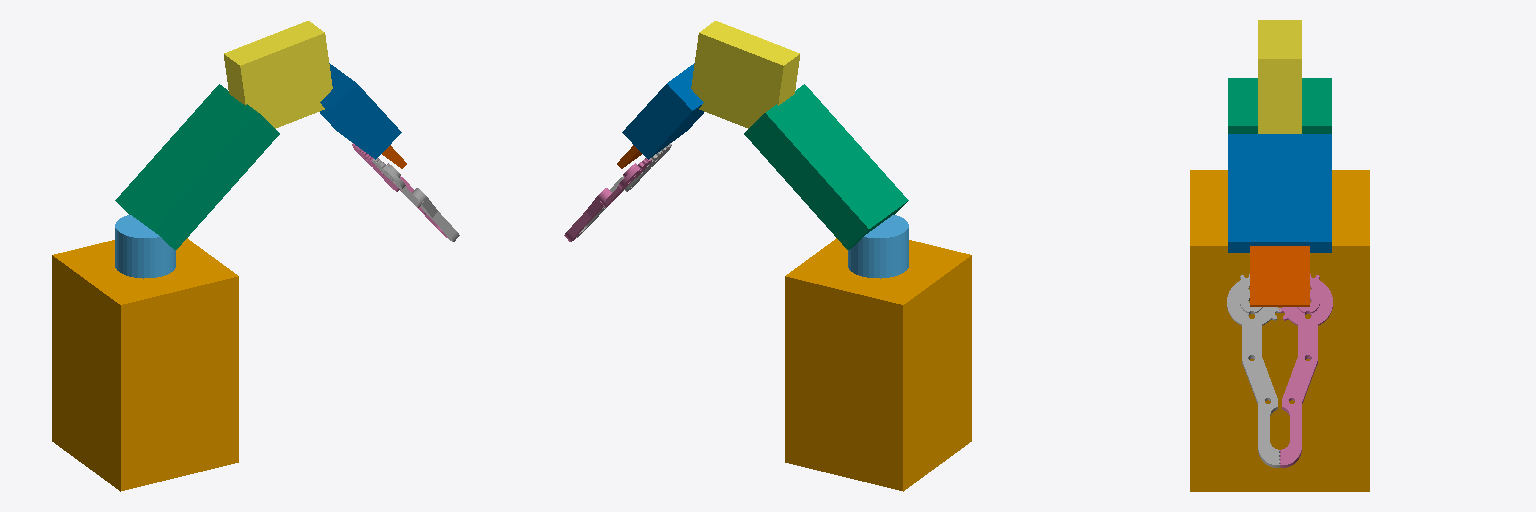
The robot description file, URDF, robot "mrm":
<?xml version="1.0" ?>
<!-- =================================================================================== -->
<!-- |    This document was autogenerated by xacro from arm.xacro                      | -->
<!-- |    EDITING THIS FILE BY HAND IS NOT RECOMMENDED                                 | -->
<!-- =================================================================================== -->
<robot name="mrm" xmlns:xacro="http://www.ros.org/wiki/xacro">
  <!-- END - Include -->
  <link name="base_link">
    <inertial>
      <mass value="1024"/>
      <origin rpy="0 0 0" xyz="0 0 0.0675"/>
      <inertia ixx="170.667" ixy="0" ixz="0" iyy="170.667" iyz="0" izz="170.667"/>
    </inertial>
    <collision>
      <origin rpy="0 0 0" xyz="0 0 0.0675"/>
      <geometry>
        <box size="0.09 0.09 0.135"/>
      </geometry>
    </collision>
    <visual>
      <origin rpy="0 0 0" xyz="0 0 0.0675"/>
      <geometry>
        <box size="0.09 0.09 0.135"/>
      </geometry>
    </visual>
  </link>
  <link name="link_01">
    <inertial>
      <mass value="0.01"/>
      <origin rpy="0 0 0" xyz="0 0 0.0145"/>
      <inertia ixx="1.0" ixy="0" ixz="0" iyy="1.0" iyz="0" izz="1.0"/>
    </inertial>
    <collision>
      <origin rpy="0 0 0" xyz="0 0 0.0145"/>
      <geometry>
        <cylinder length="0.029" radius="0.02"/>
      </geometry>
    </collision>
    <visual>
      <origin rpy="0 0 0" xyz="0 0 0.0145"/>
      <geometry>
        <cylinder length="0.029" radius="0.02"/>
      </geometry>
    </visual>
  </link>
  <link name="link_02">
    <inertial>
      <mass value="0.1"/>
      <origin rpy="0 0 0" xyz="0.0515 0 0"/>
      <inertia ixx="0.1" ixy="0" ixz="0" iyy="0.1" iyz="0" izz="0.1"/>
    </inertial>
    <collision>
      <origin rpy="0 0 0" xyz="0.0515 0 0"/>
      <geometry>
        <box size="0.103 0.052 0.025"/>
      </geometry>
    </collision>
    <visual>
      <origin rpy="0 0 0" xyz="0.0515 0 0"/>
      <geometry>
        <box size="0.103 0.052 0.025"/>
      </geometry>
    </visual>
  </link>
  <link name="link_03">
    <inertial>
      <mass value="0.1"/>
      <origin rpy="0 0 0" xyz="0.0325 0 0"/>
      <inertia ixx="0.1" ixy="0" ixz="0" iyy="0.1" iyz="0" izz="0.1"/>
    </inertial>
    <collision>
      <origin rpy="0 0 0" xyz="0.0325 0 0"/>
      <geometry>
        <box size="0.065 0.022 0.055"/>
      </geometry>
    </collision>
    <visual>
      <origin rpy="0 0 0" xyz="0.0325 0 0"/>
      <geometry>
        <box size="0.065 0.022 0.055"/>
      </geometry>
    </visual>
  </link>
  <link name="link_04">
    <inertial>
      <mass value="0.1"/>
      <origin rpy="0 0 0" xyz="0.0275 0 0"/>
      <inertia ixx="0.1" ixy="0" ixz="0" iyy="0.1" iyz="0" izz="0.1"/>
    </inertial>
    <collision>
      <origin rpy="0 0 0" xyz="0.0275 0 0"/>
      <geometry>
        <box size="0.055 0.052 0.025"/>
      </geometry>
    </collision>
    <visual>
      <origin rpy="0 0 0" xyz="0.0275 0 0"/>
      <geometry>
        <box size="0.055 0.052 0.025"/>
      </geometry>
    </visual>
  </link>
  <link name="ir_ranger">
    <inertial>
      <mass value="0.1"/>
      <origin rpy="0 0 0" xyz="0.015 0 0"/>
      <inertia ixx="0.1" ixy="0" ixz="0" iyy="0.1" iyz="0" izz="0.1"/>
    </inertial>
    <collision>
      <origin rpy="0 0 0" xyz="0.015 0 0"/>
      <geometry>
        <box size="0.03 0.03 0.005"/>
      </geometry>
    </collision>
    <visual>
      <origin rpy="0 0 0" xyz="0.015 0 0"/>
      <geometry>
        <box size="0.03 0.03 0.005"/>
      </geometry>
    </visual>
  </link>
  <link name="link_clawR">
    <inertial>
      <mass value="0.1"/>
      <origin rpy="0 0 0" xyz="-0.03 -0.014 -0.005"/>
      <inertia ixx="0.1" ixy="0" ixz="0" iyy="0.1" iyz="0" izz="0.1"/>
    </inertial>
    <collision>
      <origin rpy="0 0 0" xyz="-0.03 -0.014 -0.005"/>
      <geometry>
        <mesh filename="package://arm-model/meshes/gripperRight.stl" scale="0.001 0.001 0.001"/>
      </geometry>
    </collision>
    <visual>
      <origin rpy="0 0 0" xyz="-0.03 -0.014 -0.005"/>
      <geometry>
        <mesh filename="package://arm-model/meshes/gripperRight.stl" scale="0.001 0.001 0.001"/>
      </geometry>
      <!-- <material name="light_black"/> -->
    </visual>
  </link>
  <link name="link_clawL">
    <inertial>
      <mass value="0.1"/>
      <origin rpy="0 0 0" xyz="-0.03 0.014 -0.005"/>
      <inertia ixx="0.1" ixy="0" ixz="0" iyy="0.1" iyz="0" izz="0.1"/>
    </inertial>
    <collision>
      <origin rpy="0 0 0" xyz="-0.03 0.014 -0.005"/>
      <geometry>
        <mesh filename="package://arm-model/meshes/gripperLeft.stl" scale="0.001 0.001 0.001"/>
      </geometry>
    </collision>
    <visual>
      <origin rpy="0 0 0" xyz="-0.03 0.014 -0.005"/>
      <geometry>
        <mesh filename="package://arm-model/meshes/gripperLeft.stl" scale="0.001 0.001 0.001"/>
      </geometry>
      <!-- <material name="light_black"/> -->
    </visual>
  </link>
  <joint name="base_link__link_01" type="revolute">
    <axis xyz="0 0 -1"/>
    <limit effort="1000" lower="-1.5708" upper="1.5708" velocity="0.5"/>
    <origin rpy="0 0 0" xyz="0 0 0.135"/>
    <parent link="base_link"/>
    <child link="link_01"/>
    <dynamics damping="10.0" friction="10.0"/>
  </joint>
  <joint name="link_01__link_02" type="revolute">
    <axis xyz="0 -1 0"/>
    <limit effort="1000" lower="-0.7854" upper="0.7854" velocity="0.5"/>
    <origin rpy="0 -0.698 0" xyz="0 0 0.029"/>
    <parent link="link_01"/>
    <child link="link_02"/>
    <dynamics damping="10.0" friction="10.0"/>
  </joint>
  <joint name="link_02__link_03" type="revolute">
    <axis xyz="0 -1 0"/>
    <limit effort="1000" lower="-1.5708" upper="1.5708" velocity="0.5"/>
    <origin rpy="0 0.5584 0" xyz="0.103 0 0.015"/>
    <parent link="link_02"/>
    <child link="link_03"/>
    <dynamics damping="10.0" friction="10.0"/>
  </joint>
  <joint name="link_03__link_04" type="revolute">
    <axis xyz="0 -1 0"/>
    <limit effort="1000" lower="-1.5708" upper="1.5708" velocity="0.5"/>
    <origin rpy="0 1.047 0" xyz="0.065 0 -0.015"/>
    <parent link="link_03"/>
    <child link="link_04"/>
    <dynamics damping="10.0" friction="10.0"/>
  </joint>
  <joint name="link_04__ir_ranger" type="fixed">
    <origin rpy="0 0 0" xyz="0.055 0 0"/>
    <parent link="link_04"/>
    <child link="ir_ranger"/>
  </joint>
  <joint name="ir_ranger__link_clawL" type="revolute">
    <axis xyz="0 0 -1"/>
    <limit effort="1000" lower="-0.6" upper="0.9" velocity="0.5"/>
    <origin rpy="0 0 0" xyz="0.03 -0.014  -0.00"/>
    <parent link="ir_ranger"/>
    <child link="link_clawL"/>
    <dynamics damping="10.0" friction="10.0"/>
  </joint>
  <joint name="ir_ranger__link_clawR" type="revolute">
    <axis xyz="0 0 1"/>
    <limit effort="1000" lower="-0.6" upper="0.9" velocity="0.5"/>
    <origin rpy="0 0 0" xyz="0.03 +0.014  -0.00"/>
    <parent link="ir_ranger"/>
    <child link="link_clawR"/>
    <dynamics damping="10.0" friction="10.0"/>
  </joint>
  <!-- END - Robot description Total weight = 1373.401  ==> 13473.065N-->
  <!-- This plugin will publish the joint_states for the selected joints 
            (which robot_state_publisher can then use to broadcast the approprate tf). -->
  <gazebo>
    <plugin filename="libgazebo_ros_joint_state_publisher.so" name="gazebo_ros_joint_state_publisher">
      <update_rate>20</update_rate>
      <joint_name>base_link__link_01</joint_name>
      <joint_name>link_01__link_02</joint_name>
      <joint_name>link_03__link_04</joint_name>
    </plugin>
  </gazebo>
  <!-- This plugin will read a JointTrajectory message from the /set_joint_trajectory topic 
            and move the machine accordingly. It's a bit clunky but it works. -->
  <!-- You'll probably want to add damping to the joints to stop them it flopping around. 
            e.g. <dynamics damping="10.0" friction="10.0"/> -->
  <!-- Here's an example message to publish to test it:
            ros2 topic pub -1 /set_joint_trajectory trajectory_msgs/msg/JointTrajectory  '{header: {frame_id: world}, joint_names: [slider_joint, arm_joint], points: [  {positions: {0.8,0.6}} ]}' 
            ros2 topic pub -1 /set_joint_trajectory trajectory_msgs/msg/JointTrajectory  '{header: {frame_id: world}, joint_names: [base_link__link_01], points: [  {positions: {1.8}} ]}'
            -->
  <gazebo>
    <plugin filename="libgazebo_ros_joint_pose_trajectory.so" name="gazebo_ros_joint_pose_trajectory">
      <update_rate>2</update_rate>
    </plugin>
  </gazebo>
</robot>

--- Render facts (derived) ---
3 views of the same robot in one strip: view 1: azimuth 30°, elevation 25°; view 2: azimuth 150°, elevation 25°; view 3: azimuth 270°, elevation 25° (orthographic).
Model mrm with 8 links and 7 joints (6 revolute, 1 fixed), rooted at base_link, posed all joints at 0.
Links seen in each view (by area): view 1: base_link, link_02, link_03, link_04, link_01, link_clawL; view 2: base_link, link_02, link_03, link_04, link_01, link_clawR; view 3: base_link, link_04, link_03, link_clawR, link_clawL, ir_ranger, link_02.
Boxes of the visible links, bbox=[...] form: base_link: bbox=[52, 238, 238, 491]; link_02: bbox=[115, 84, 279, 249]; link_03: bbox=[224, 21, 332, 128]; link_04: bbox=[320, 63, 401, 159]; link_01: bbox=[115, 215, 175, 278]; link_clawL: bbox=[372, 158, 459, 241]; base_link: bbox=[785, 238, 971, 491]; link_02: bbox=[744, 84, 908, 249]; link_03: bbox=[691, 21, 799, 128]; link_04: bbox=[622, 63, 703, 159]; link_01: bbox=[848, 215, 908, 278]; link_clawR: bbox=[564, 158, 651, 241]; base_link: bbox=[1190, 170, 1369, 491]; link_04: bbox=[1228, 134, 1331, 252]; link_03: bbox=[1258, 20, 1301, 133]; link_clawR: bbox=[1279, 274, 1332, 467]; link_clawL: bbox=[1227, 274, 1280, 467]; ir_ranger: bbox=[1250, 246, 1309, 306]; link_02: bbox=[1228, 78, 1331, 133].
Bounding box of the posed robot: 0.2806 × 0.09 × 0.278 m (x, y, z).
Meshes: 2 distinct files referenced, 2 mesh visuals loaded (2 binary STL).